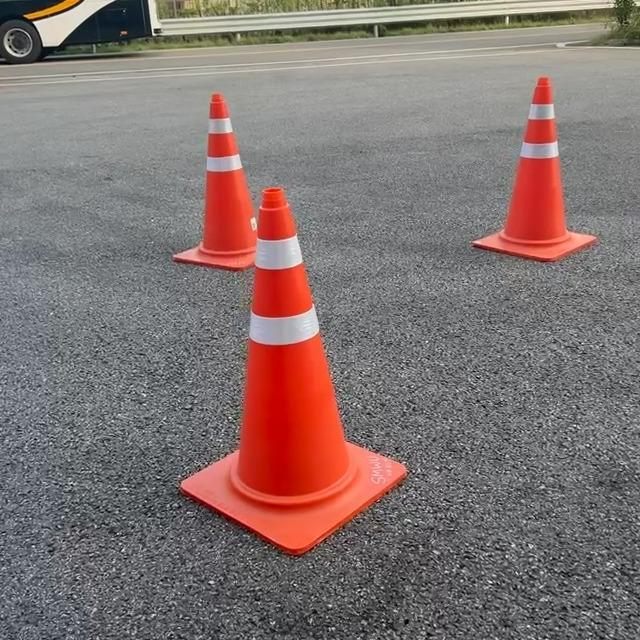fallen_object: (186, 149, 419, 548), (449, 66, 640, 288), (145, 73, 291, 269)
